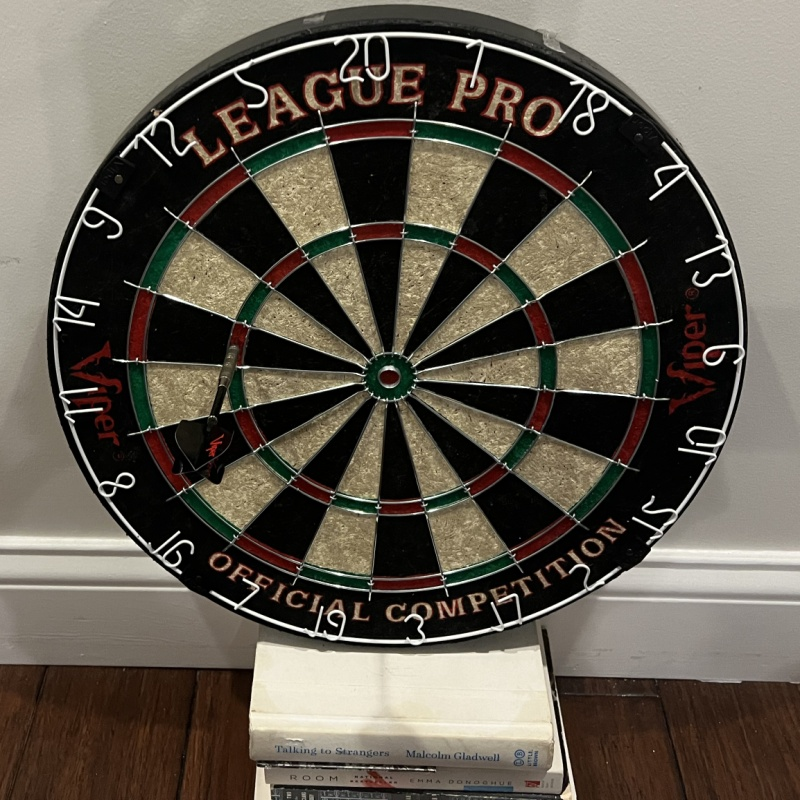dart: (223, 342, 244, 365)
eleven: (57, 383, 106, 424)
six: (700, 341, 748, 367)
three: (406, 613, 426, 648)
twenty: (336, 31, 393, 83)
